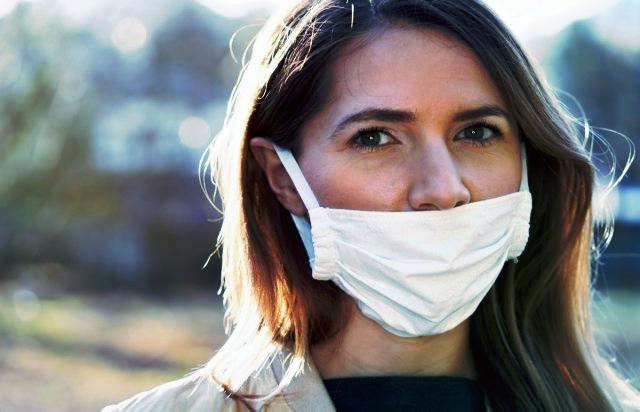mask_weared_incorrect: (222, 1, 534, 341)
